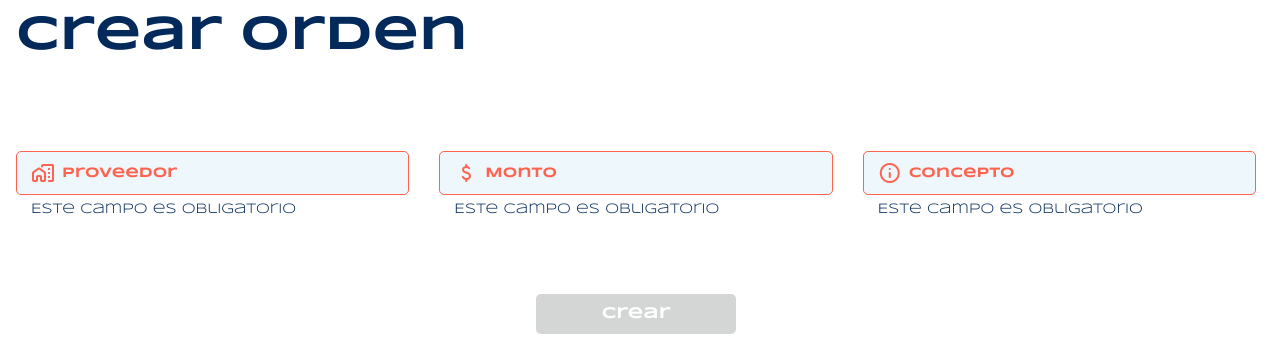
Test: should enable button when form is valid
The image size is (1273, 351).
Type "Proveedor test" into the field with placeholder "Escribe aquí" next to "Proveedor" at point(227, 173), box [59,152,394,194]
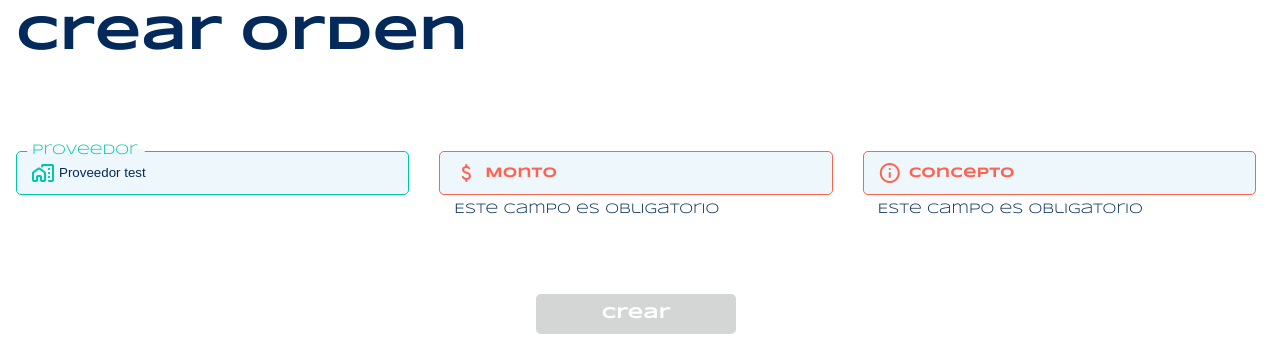
Type "1000" into the number field with placeholder "Escribe aquí" at point(650, 173), box [482,152,818,194]
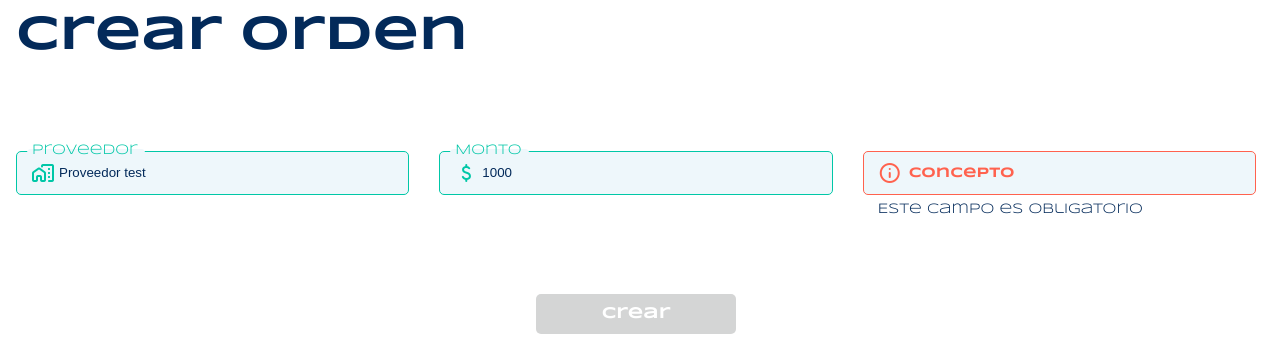
Type "Concepto test largo" into the field with placeholder "Escribe aquí" at point(1073, 173), box [906,152,1241,194]
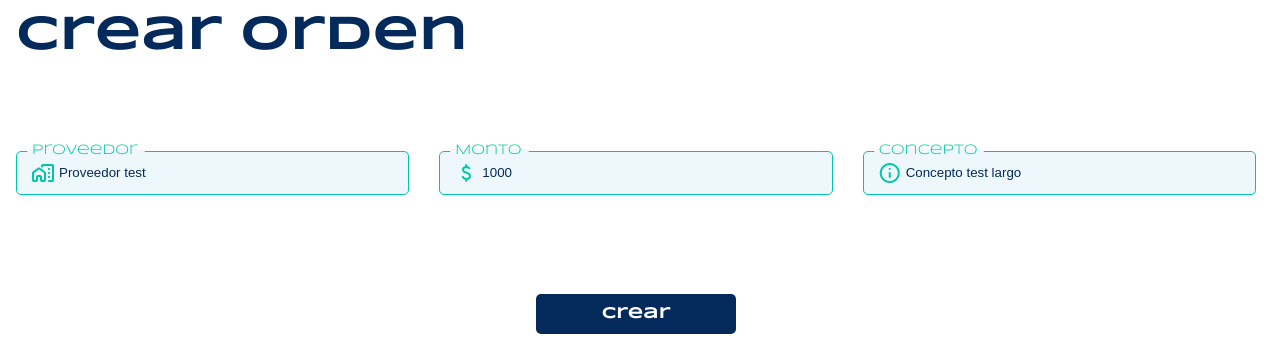
Expected: the button "Crear" is enabled, [536,294,736,334]
